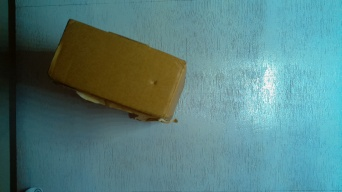a: (45, 15, 197, 129)
